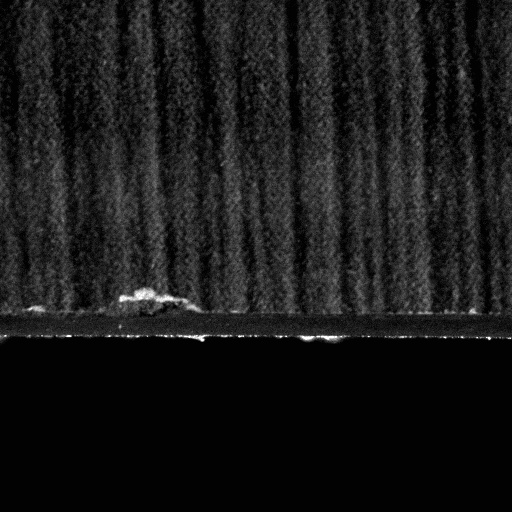bengque: (112, 287, 206, 318)
